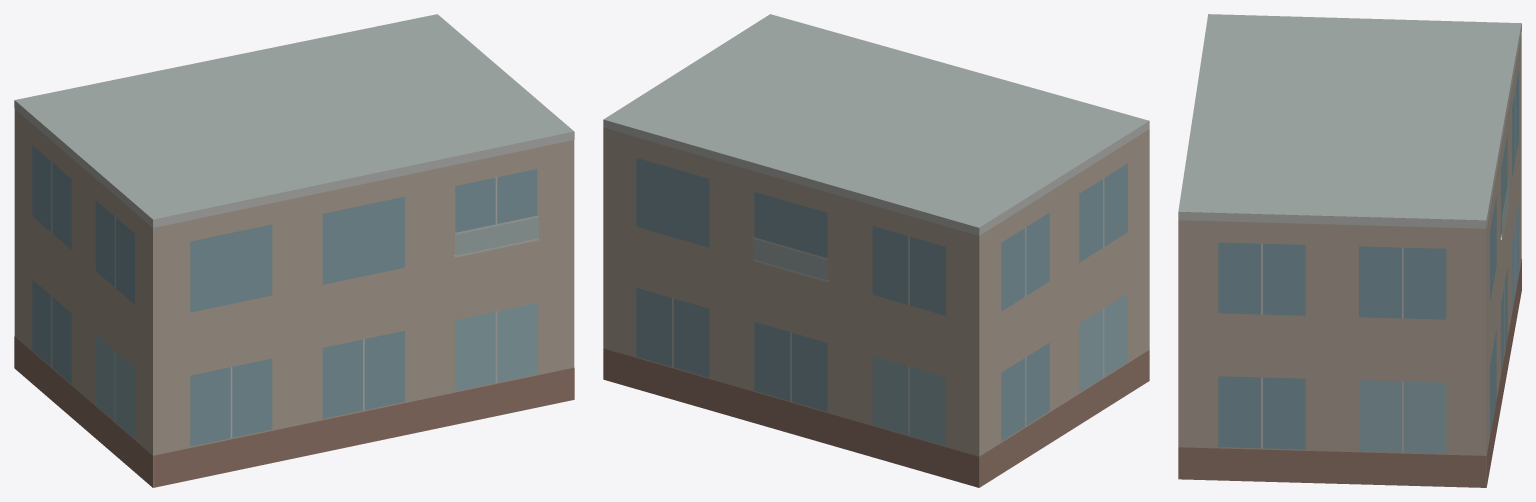
Rendered from survey-upis-32504149.glb.
The picture shows the model from 3 angles, left to right: view 1: azimuth 30°, elevation 25°; view 2: azimuth 150°, elevation 25°; view 3: azimuth 270°, elevation 25°; orthographic projection. The views are drawn at different scales.
Visible parts, largest first — view 1: survey-upis-32504149.tmp; view 2: survey-upis-32504149.tmp; view 3: survey-upis-32504149.tmp.
Boxes of the visible parts, x1,y1,x2,y2 form: survey-upis-32504149.tmp: (14, 14, 574, 487); survey-upis-32504149.tmp: (603, 14, 1149, 487); survey-upis-32504149.tmp: (1178, 14, 1521, 487).
Size of the model in its own units: 12.91 by 7.8 by 9.09.
